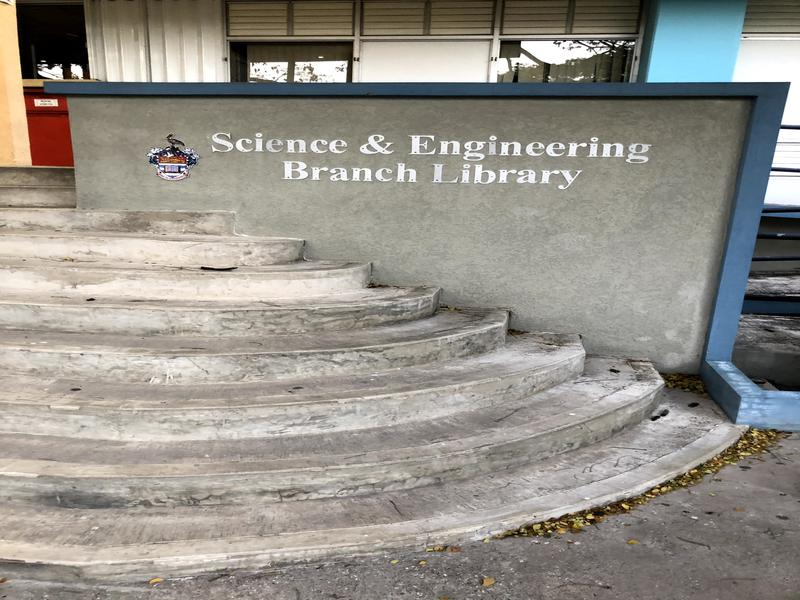18.0053644_-76.7493880_librarysign: (201, 114, 672, 203)
